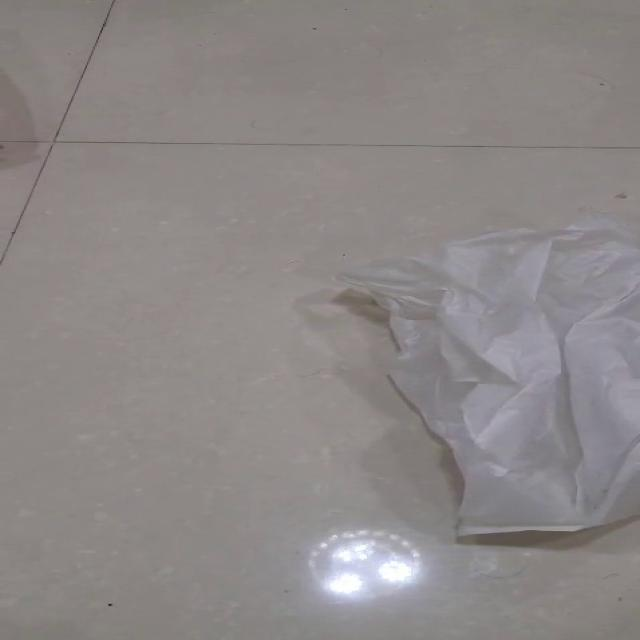plastic: (332, 219, 639, 538)
